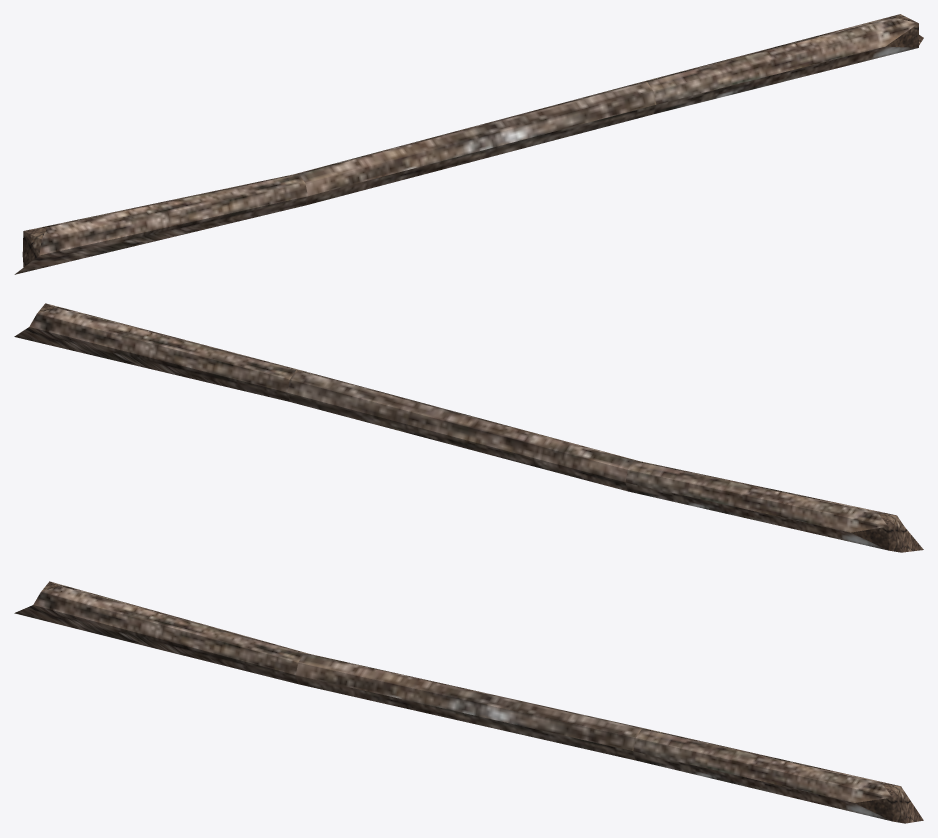
File: Pine_Fallen_Broken_005.fbx
The picture shows the model from 3 angles, top to bottom: view 1: azimuth 30°, elevation 25°; view 2: azimuth 150°, elevation 25°; view 3: azimuth 330°, elevation 25°; orthographic projection. The views are drawn at different scales.
Visible parts, largest first — view 1: Tree_Fir_Fallen_Broken_005; view 2: Tree_Fir_Fallen_Broken_005; view 3: Tree_Fir_Fallen_Broken_005.
Boxes of the visible parts, x1,y1,x2,y2 form: Tree_Fir_Fallen_Broken_005: (14, 14, 923, 274); Tree_Fir_Fallen_Broken_005: (14, 303, 923, 552); Tree_Fir_Fallen_Broken_005: (14, 581, 923, 823).
Size of the model in its own units: 1521 by 67.92 by 58.02.
